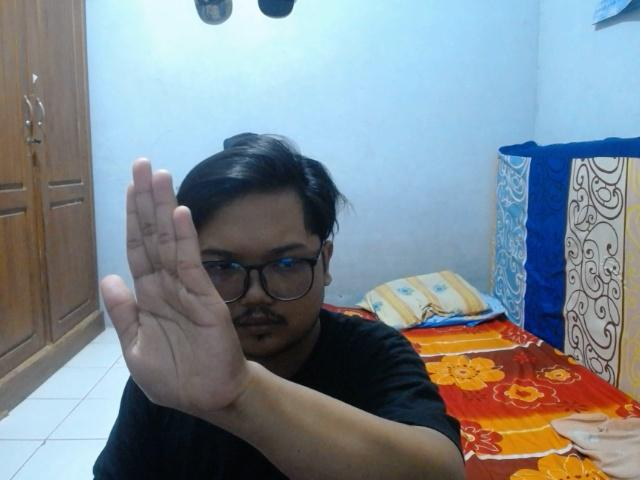Release: (94, 152, 260, 421)
